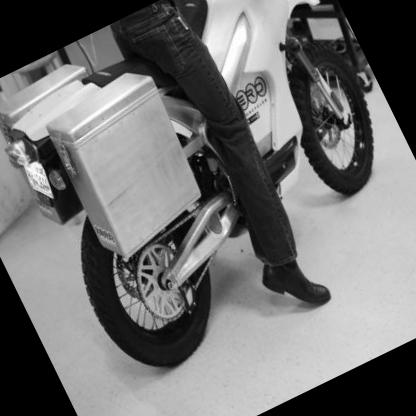moto: (1, 1, 416, 401)
